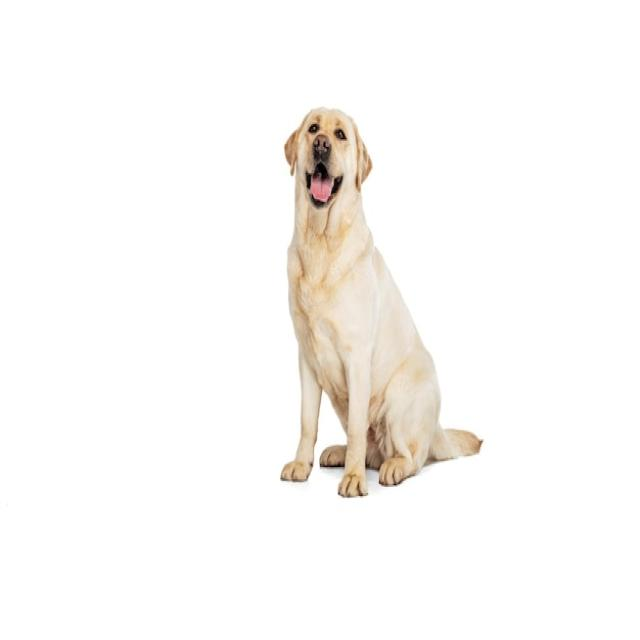Dog: (280, 107, 484, 498)
